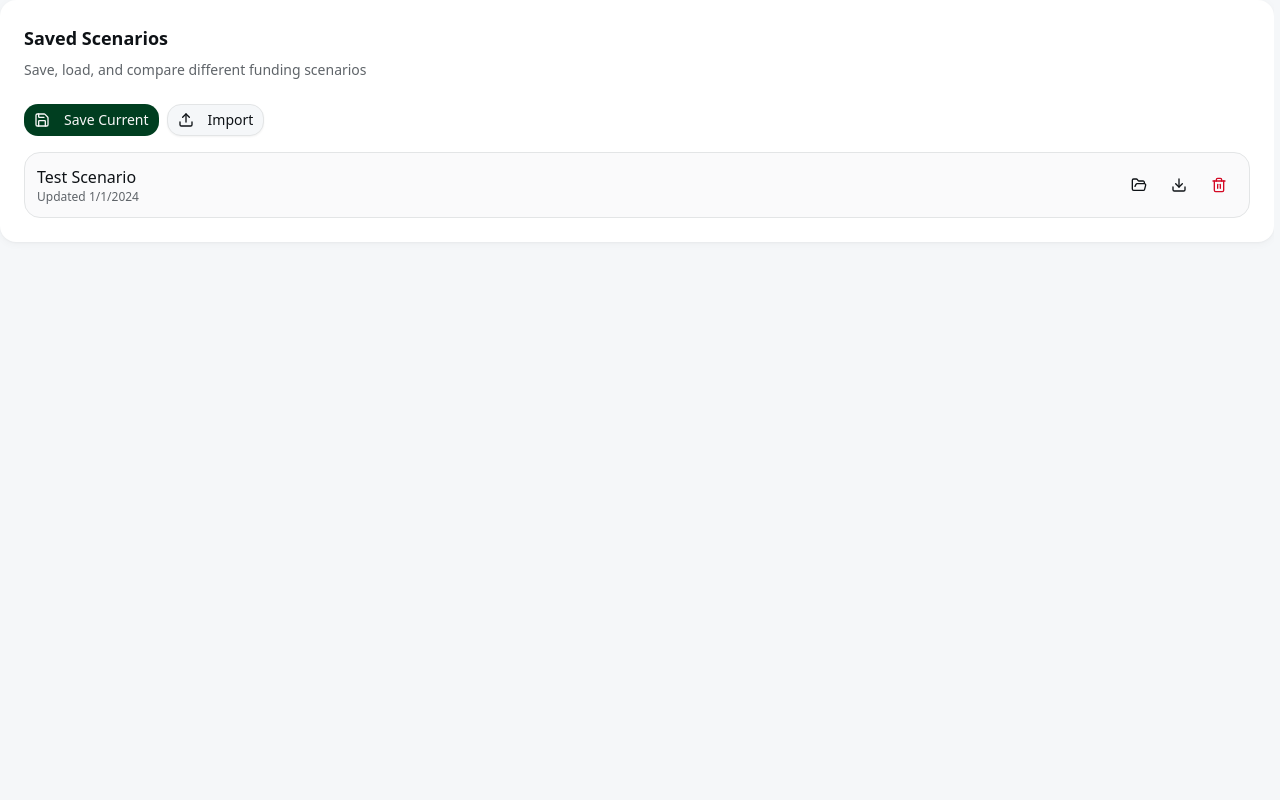
it: ScenarioManager › refreshes scenario list after delete
Expected: the text "Test Scenario" is shown, top-left (37, 166), bottom-right (136, 188)
# Click delete button to open confirmation dialog
Click the button named "delete test scenario". click: (1219, 185)
box: top-left (1201, 169), bottom-right (1237, 201)
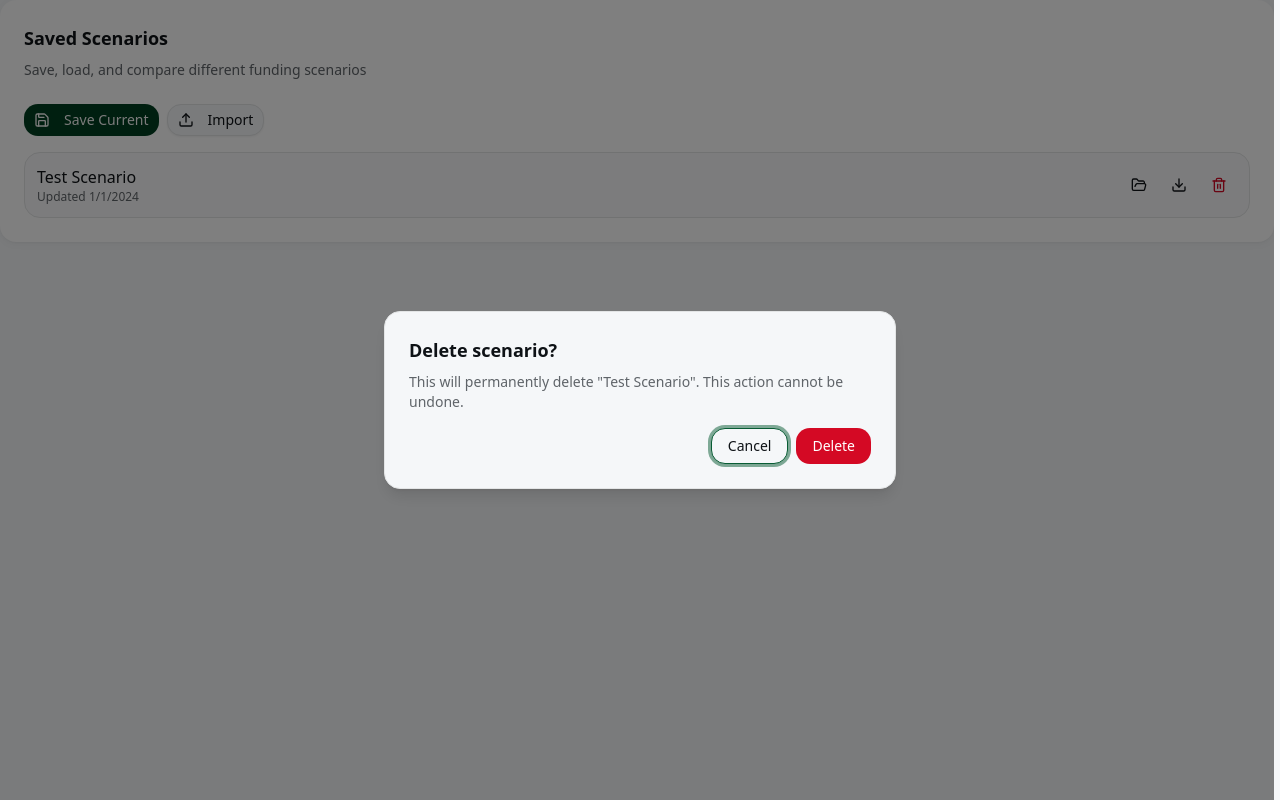
Now the dialog is shown, box top-left (384, 311), bottom-right (896, 489)
Click the button "Delete". click: (834, 446)
box: top-left (796, 428), bottom-right (871, 464)
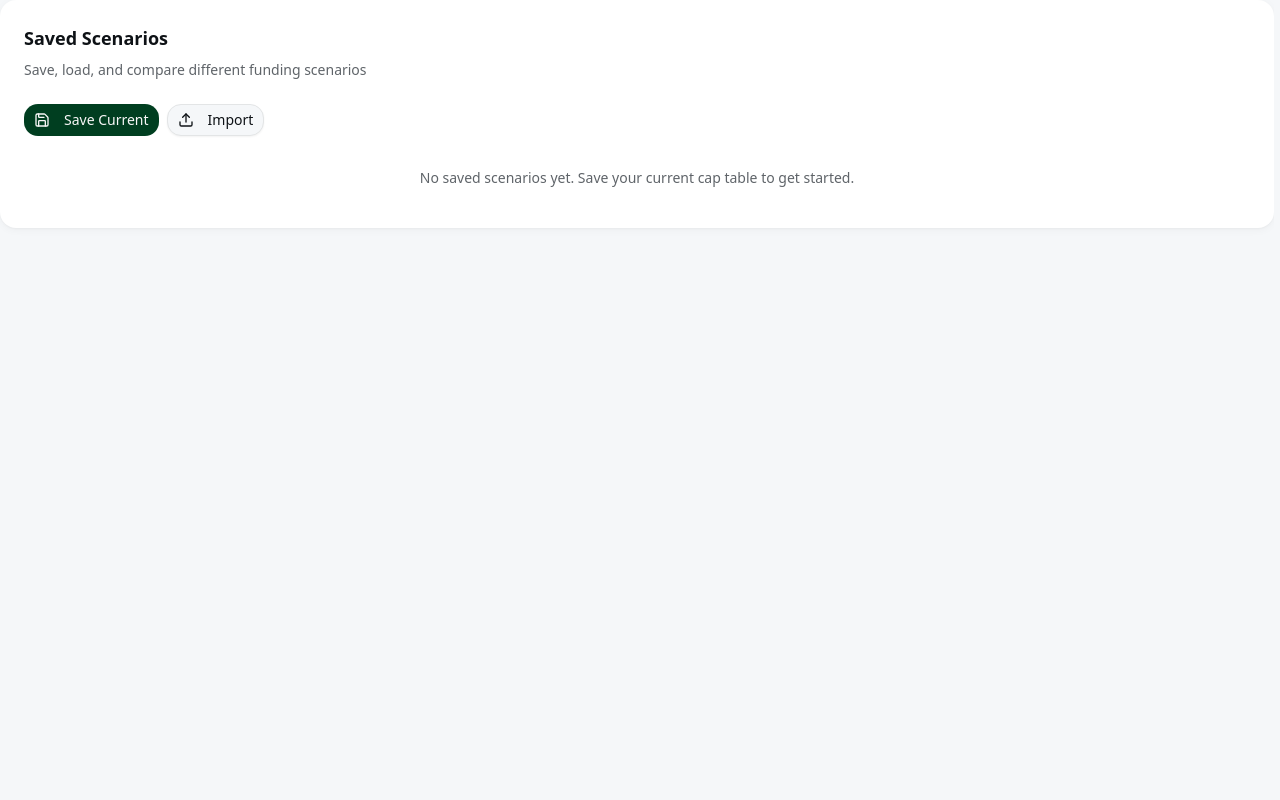
Now the text "No saved scenarios" is shown, box top-left (420, 168), bottom-right (854, 187)
